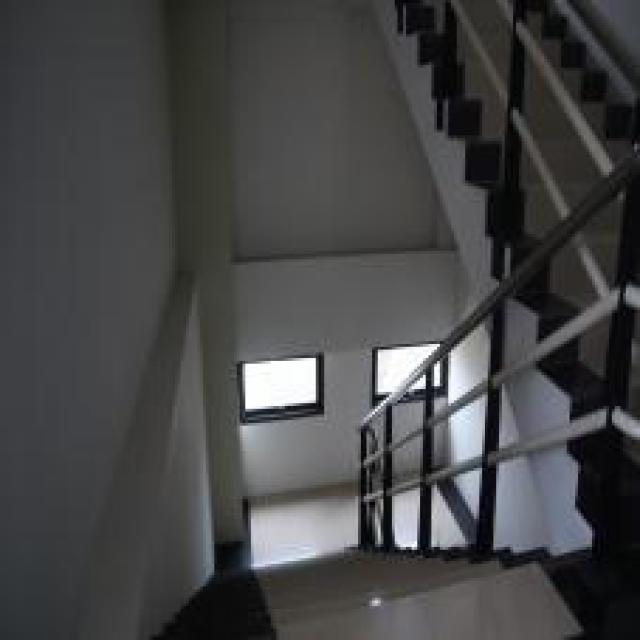downstair: (190, 562, 582, 638)
